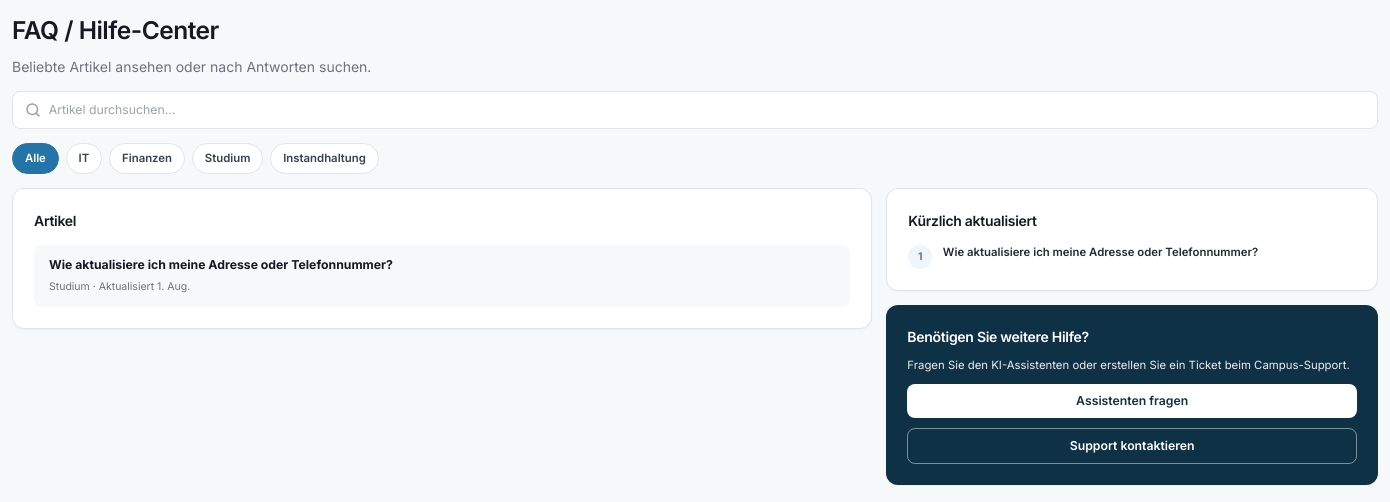
localized full pages › renders de FAQ content without the other language
Expected: the button "Alle" is shown, x1=12 y1=143 x2=59 y2=174
Expected: the button "Finanzen" is shown, x1=109 y1=143 x2=185 y2=174
Step 1. Click the button "Wie aktualisiere ich meine Adresse oder Telefonnummer?" → [221, 265], box x1=34 y1=245 x2=850 y2=307
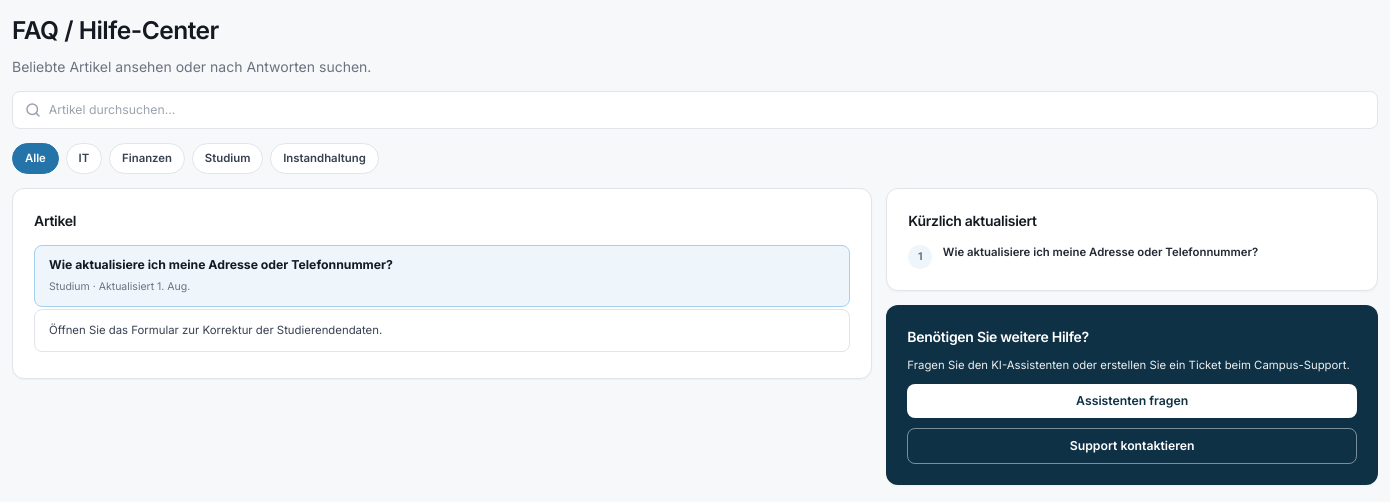
Result: the text "Öffnen Sie das Formular zur Korrektur der Studierendendaten." is shown at x1=49 y1=323 x2=382 y2=337
